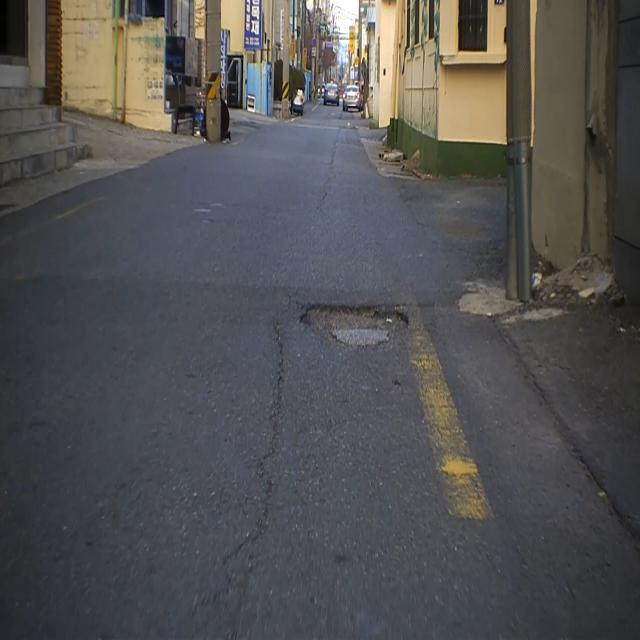Pothole: (291, 286, 415, 366)
